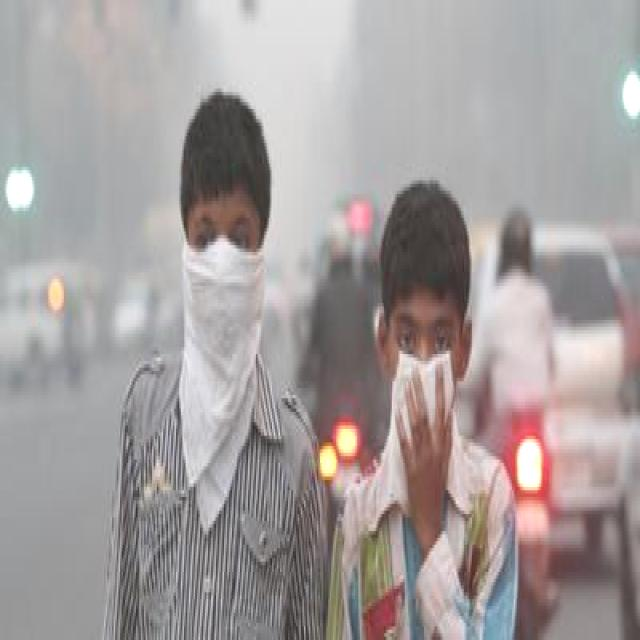face_mask: (185, 204, 262, 347), (389, 303, 462, 446)
hand_noglove: (394, 356, 457, 498)
head_nohelmet: (187, 96, 272, 214), (387, 187, 466, 313)
person: (110, 95, 317, 640), (340, 177, 518, 640)
